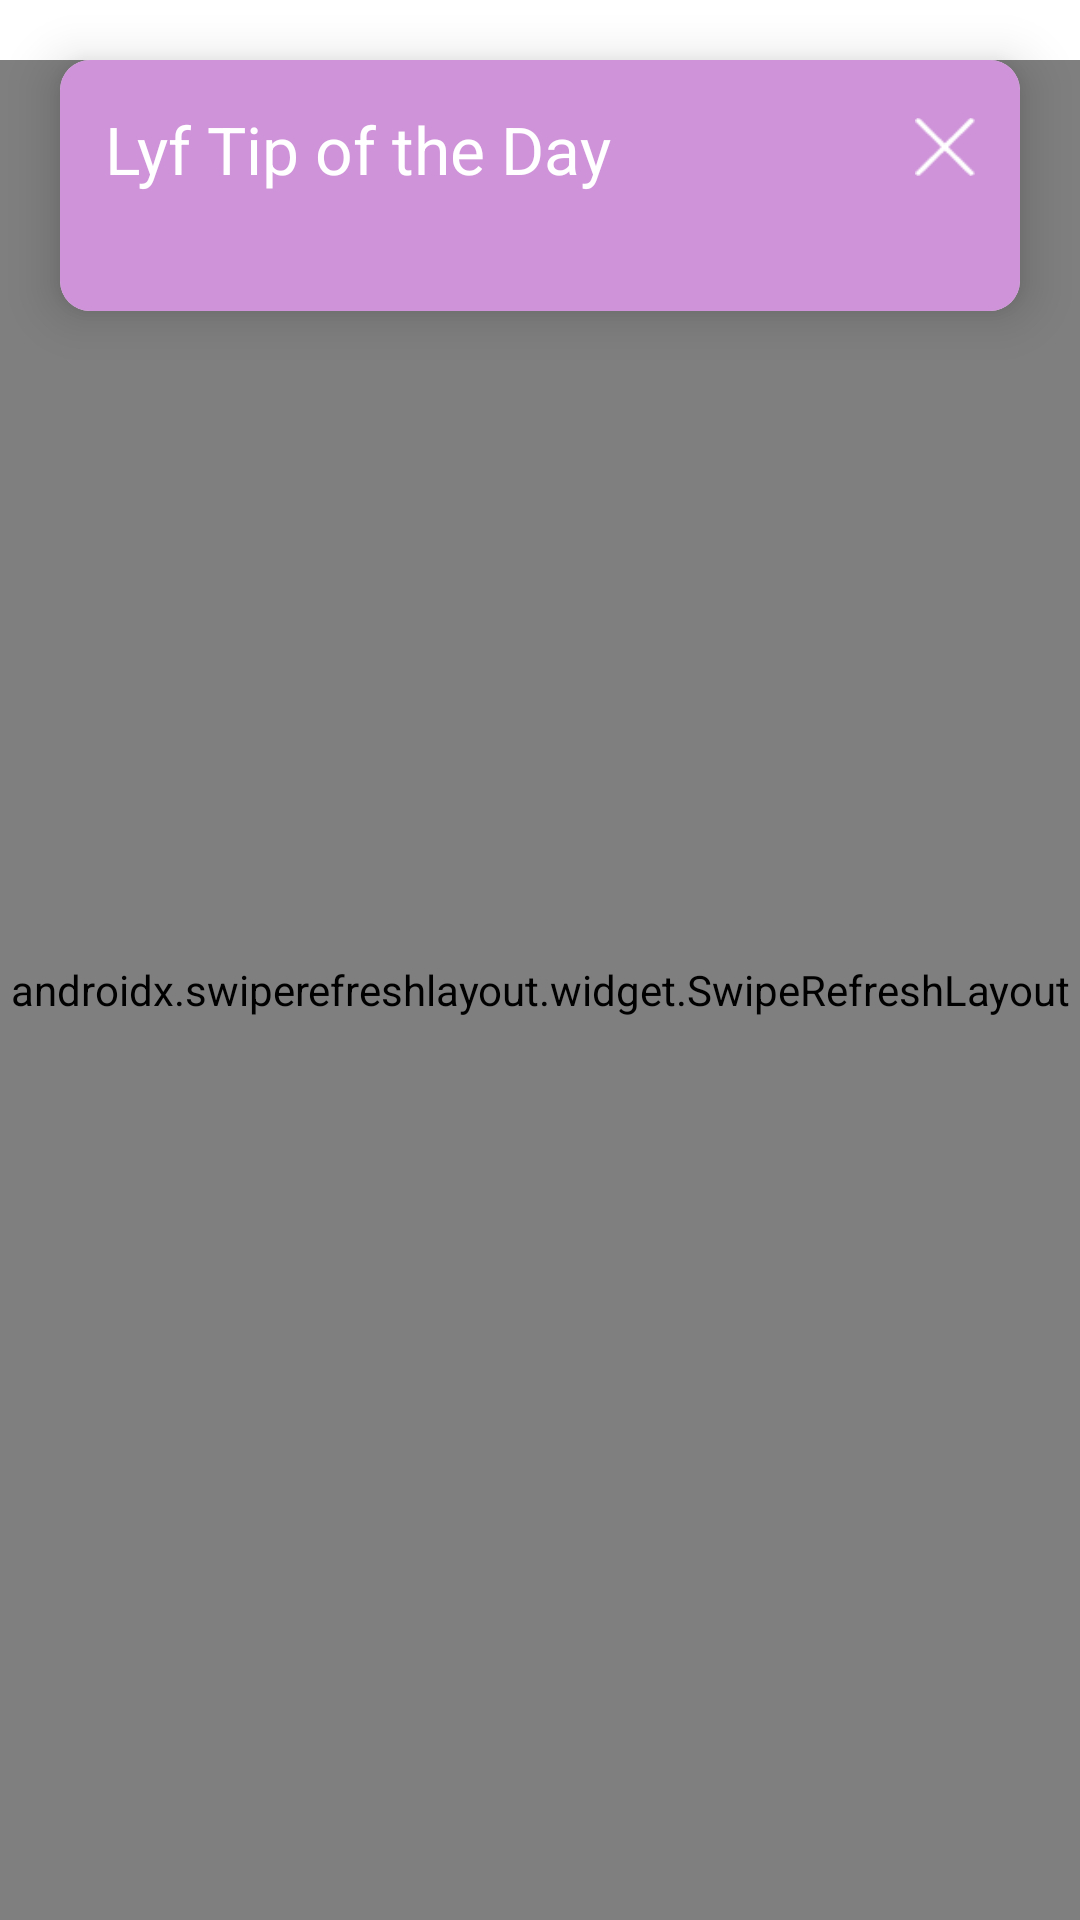

Named icons in this screenshot (1080×1920) and their bounding boxes, (x1, y1, x2, y2):
close: (915, 118, 975, 176)
